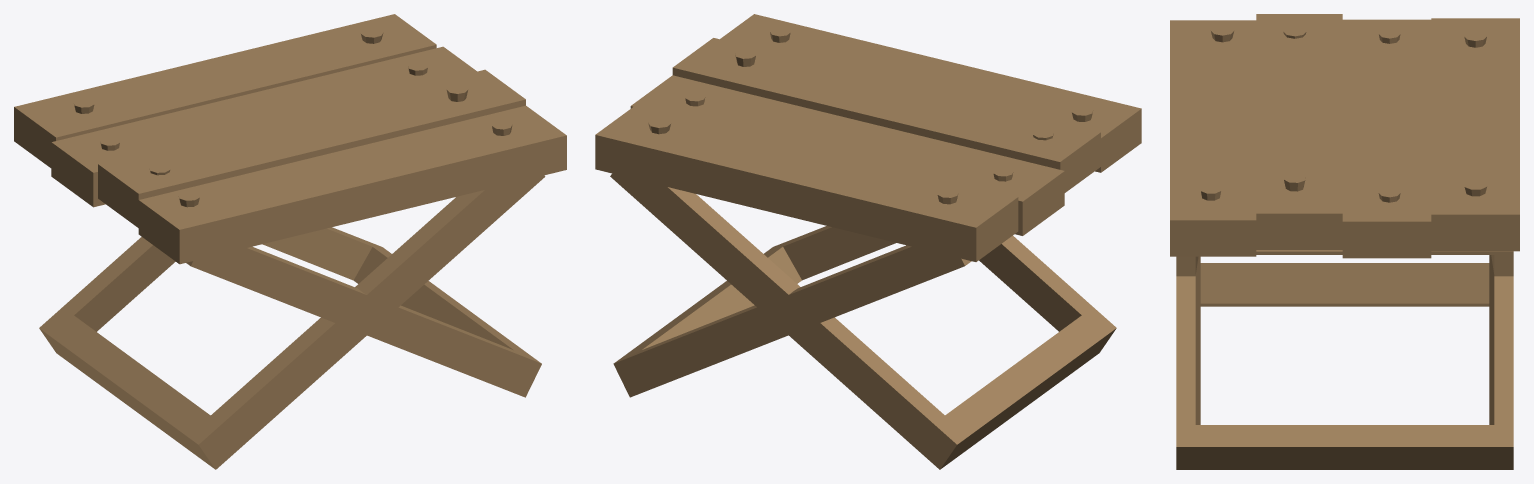
The model's file is picnic_table.glb.
3 views of the same model, side by side, from view 1: azimuth 30°, elevation 25°; view 2: azimuth 150°, elevation 25°; view 3: azimuth 270°, elevation 25° (orthographic). The views are drawn at different scales.
Parts seen in each view (by area): view 1: picnic_table; view 2: picnic_table; view 3: picnic_table.
Boxes of the visible parts, bbox=[...] form: picnic_table: bbox=[14, 14, 566, 469]; picnic_table: bbox=[595, 14, 1141, 469]; picnic_table: bbox=[1170, 14, 1519, 469].
Size of the model in its own units: 174 by 115 by 127.
